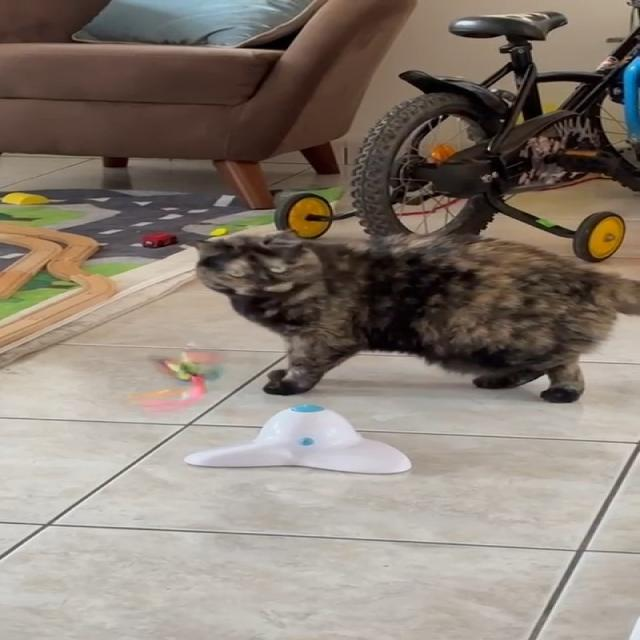authorized: (193, 227, 639, 403)
